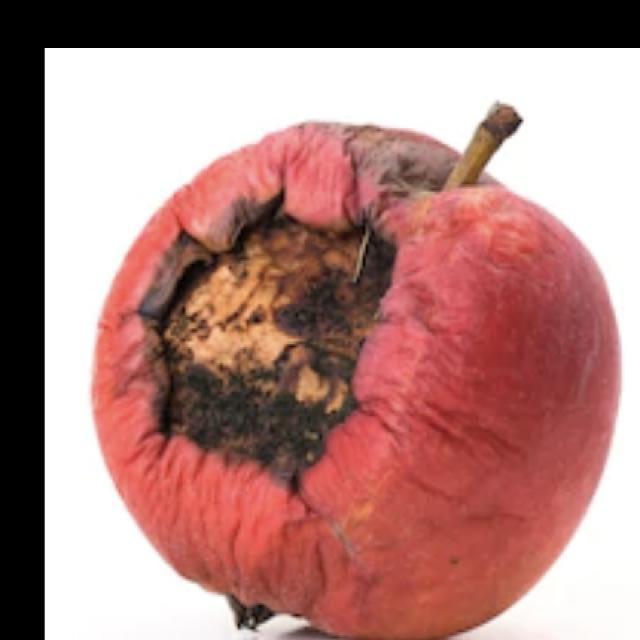Rotten: (98, 128, 628, 640)
